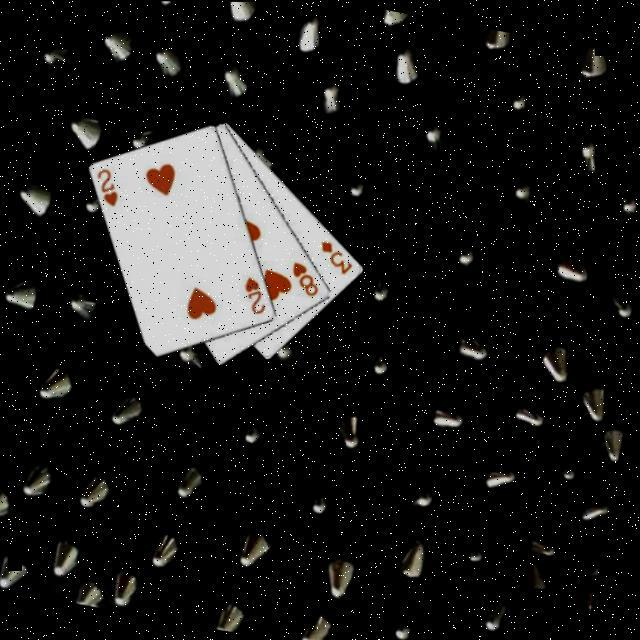2H: (90, 162, 126, 210), (238, 271, 274, 317)
3D: (314, 235, 360, 277)
8H: (286, 256, 328, 300)
